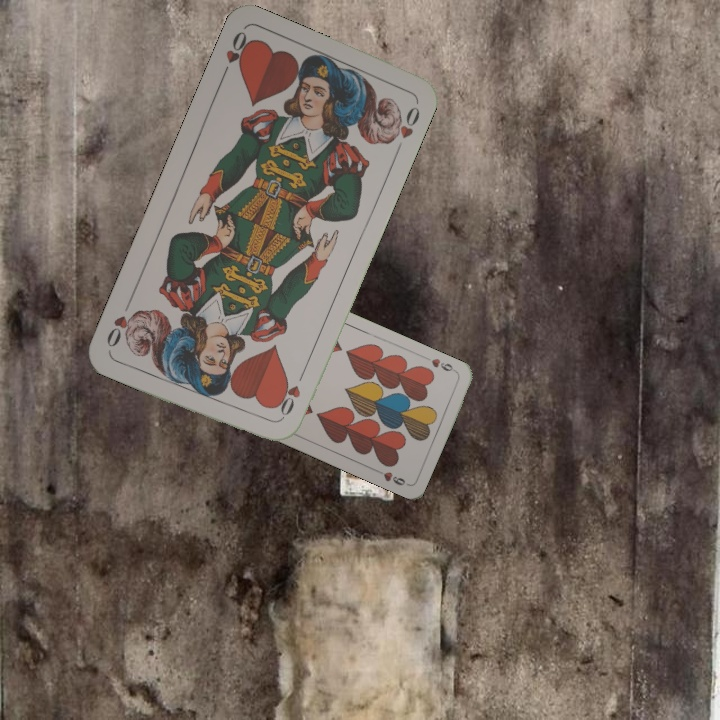H9: (421, 353, 460, 376)
HO: (216, 26, 254, 83), (271, 367, 308, 423)
